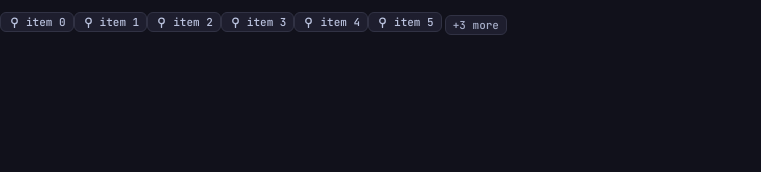
Scenario: collapses extras behind a "+N more" toggle
The width and height of the screenshot is (761, 172).
Click the button with test id "composer-staged-more" at {"x": 476, "y": 24}, box top-left (445, 14), bottom-right (507, 34)
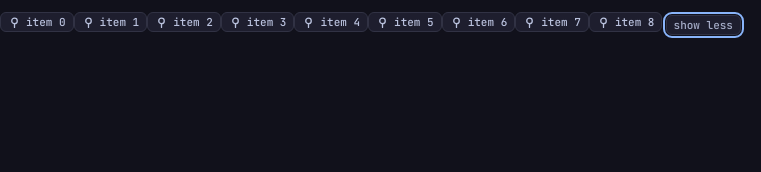
expect the button "item 8" is shown: met, box top-left (615, 15), bottom-right (654, 29)
expect the button with test id "composer-staged-more" reads "show less": met, box top-left (666, 14), bottom-right (741, 34)
